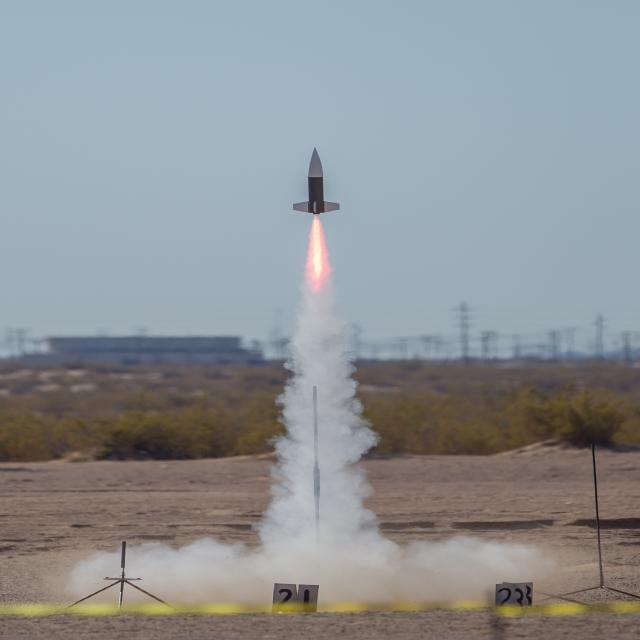Rocket: (292, 147, 341, 216)
